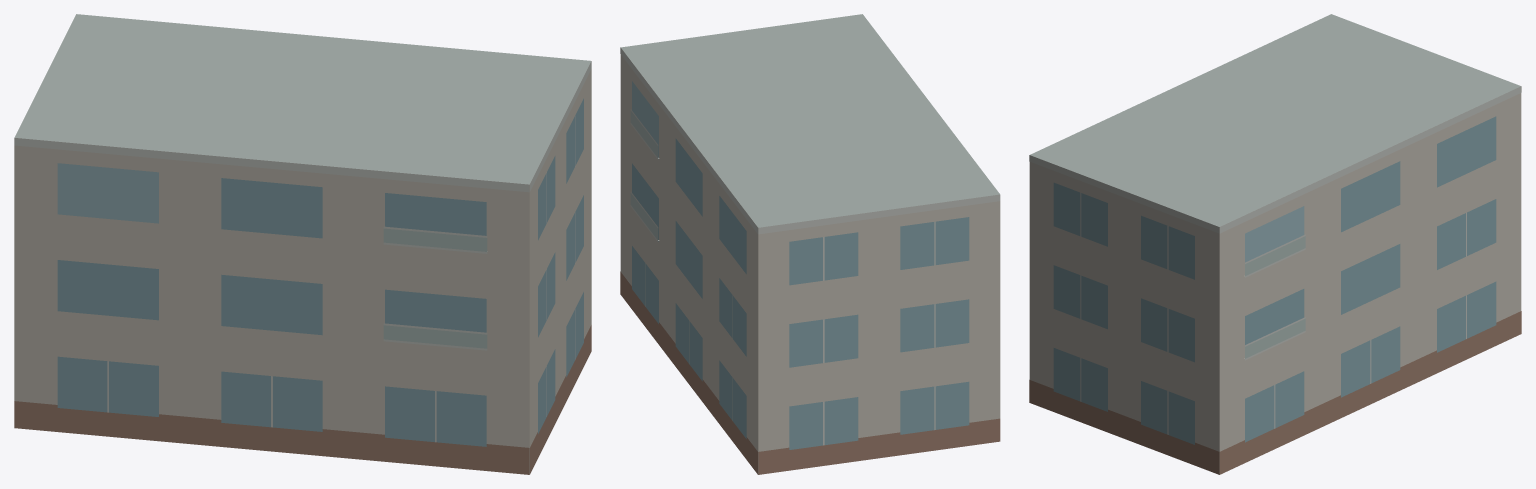
File: survey-upis-33045224.glb
The picture shows the model from 3 angles, left to right: view 1: azimuth 30°, elevation 25°; view 2: azimuth 150°, elevation 25°; view 3: azimuth 270°, elevation 25°; orthographic projection. The views are drawn at different scales.
Visible parts, largest first — view 1: survey-upis-33045224.tmp; view 2: survey-upis-33045224.tmp; view 3: survey-upis-33045224.tmp.
Boxes of the visible parts, x1,y1,x2,y2 form: survey-upis-33045224.tmp: [14, 14, 591, 474]; survey-upis-33045224.tmp: [620, 14, 1000, 474]; survey-upis-33045224.tmp: [1029, 14, 1521, 474].
Bounding box in the file's own units: 16.88 × 9.15 × 16.47.
